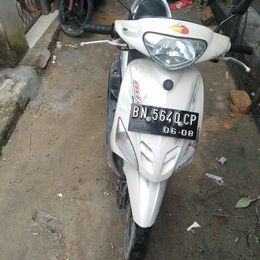plate: (130, 101, 201, 142)
